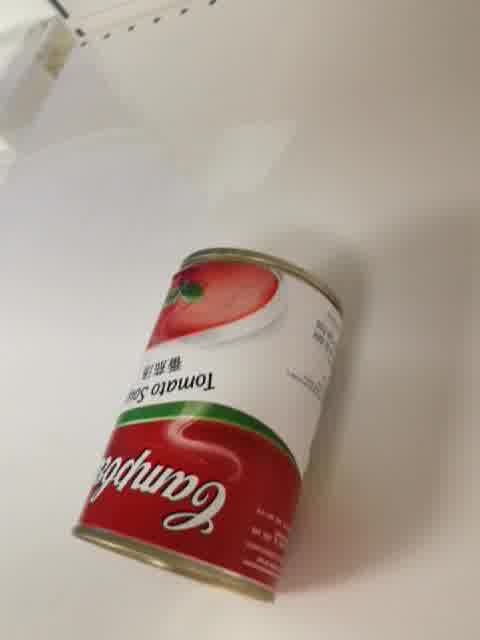tomatosoup: (72, 246, 348, 607)
